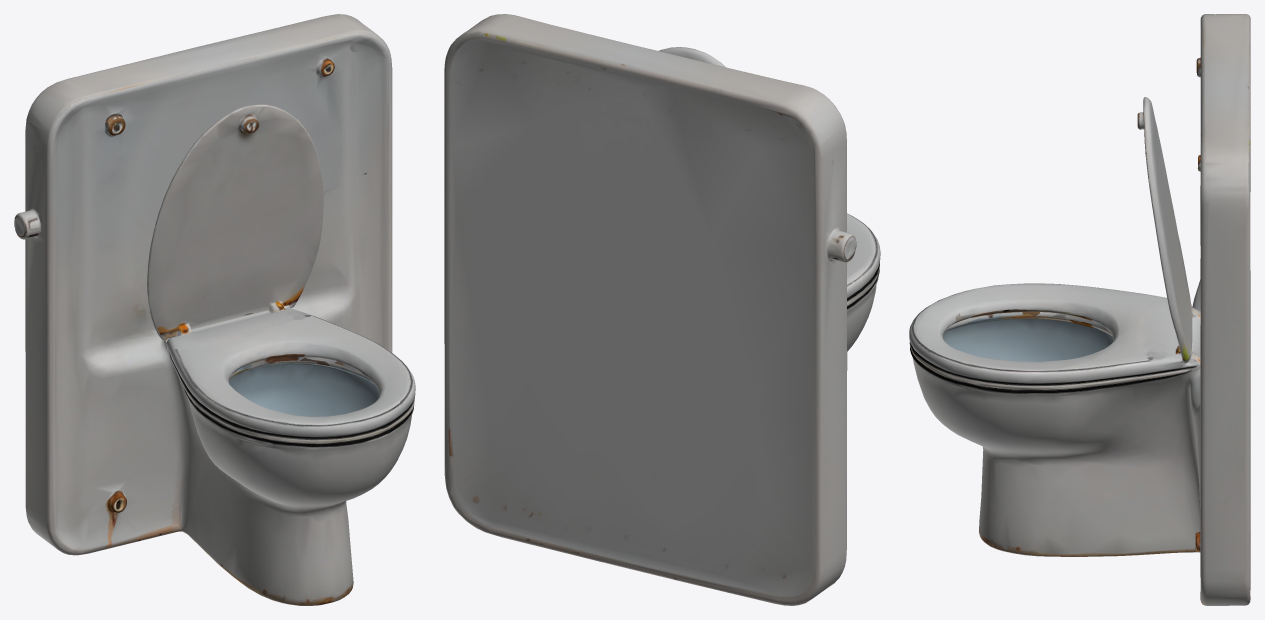
Rendered from prison_toilet3_003.glb.
3 views of the same model, side by side, from view 1: azimuth 30°, elevation 25°; view 2: azimuth 150°, elevation 25°; view 3: azimuth 270°, elevation 25° (orthographic). The views are drawn at different scales.
Parts seen in each view (by area): view 1: a8c3b2aa-2a2b-4c11-93c3-ec1f022ff173_texturing.obj; view 2: a8c3b2aa-2a2b-4c11-93c3-ec1f022ff173_texturing.obj; view 3: a8c3b2aa-2a2b-4c11-93c3-ec1f022ff173_texturing.obj.
Boxes of the visible parts, x1,y1,x2,y2 form: a8c3b2aa-2a2b-4c11-93c3-ec1f022ff173_texturing.obj: (14, 14, 415, 605); a8c3b2aa-2a2b-4c11-93c3-ec1f022ff173_texturing.obj: (444, 14, 880, 605); a8c3b2aa-2a2b-4c11-93c3-ec1f022ff173_texturing.obj: (909, 14, 1250, 605).
Size of the model in its own units: 0.8226 by 1 by 0.6789.
Materials: 1 (1 with a texture image).
